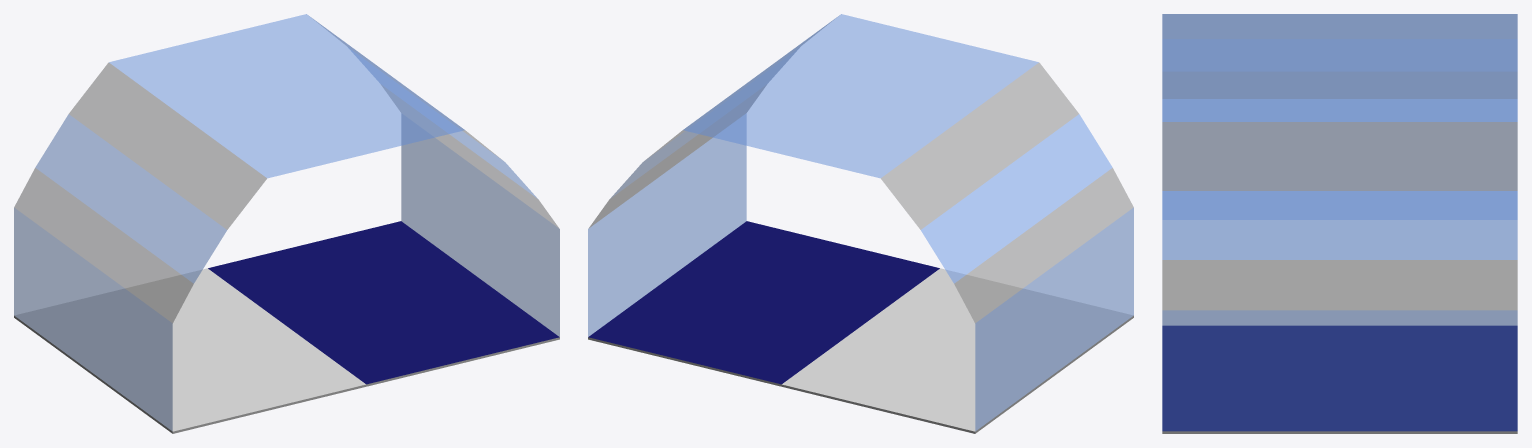
The picture shows the model from 3 angles, left to right: view 1: azimuth 30°, elevation 25°; view 2: azimuth 150°, elevation 25°; view 3: azimuth 270°, elevation 25°; orthographic projection. The views are drawn at different scales.
Visible parts, largest first — view 1: root; view 2: root; view 3: root.
Boxes of the visible parts, box(x1,y1,x2,y2) form: root: box(14, 14, 559, 433); root: box(588, 14, 1133, 433); root: box(1162, 14, 1517, 433).
Bounding box in the file's own units: 4.47 × 2.57 × 3.17.
